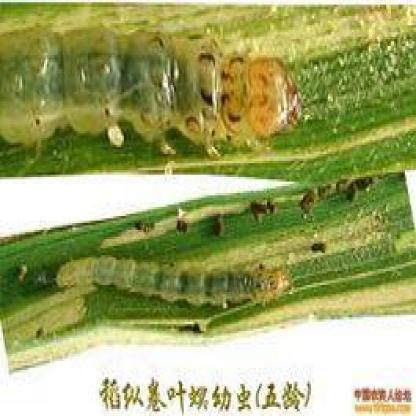leaf-folder: (11, 32, 308, 148), (49, 239, 294, 318)
